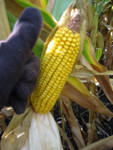corn: (33, 26, 82, 113)
